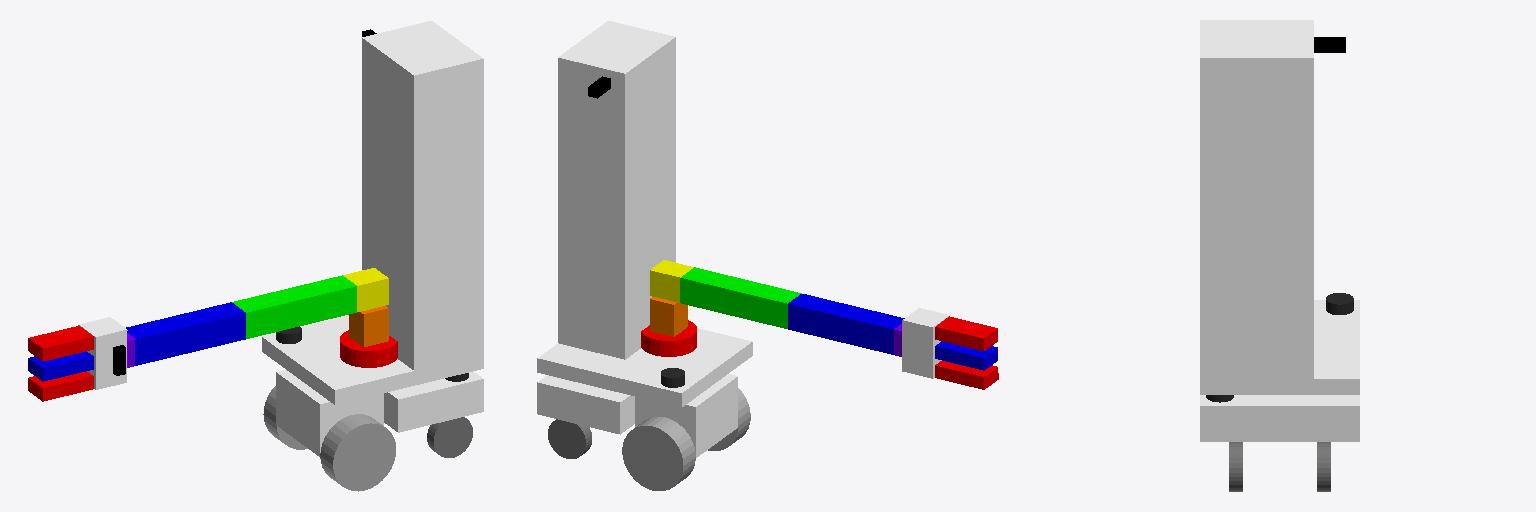
--- Facts derived from the render (not from the file) ---
3 views of the same robot in one strip: view 1: azimuth 30°, elevation 25°; view 2: azimuth 150°, elevation 25°; view 3: azimuth 270°, elevation 25° (orthographic).
Model mbse with 25 links and 24 joints (7 revolute, 4 continuous, 3 prismatic, 10 fixed), rooted at mobilebaseI, posed all joints at 0.
Links seen in each view (by area): view 1: Torsol, mobilebaseIV, Revlink3, Revlink4, Wheel_Left, mobilebaseI, mobilebaseII, Hand, FingerLeft, CasterWheel_Left, LinearJoint, Revlink1 (+4 smaller); view 2: Torsol, mobilebaseIV, Revlink3, Revlink4, Wheel_Right, mobilebaseII, mobilebaseI, Hand, FingerLeft, CasterWheel_Right, LinearJoint, Revlink1 (+4 smaller); view 3: Torsol, mobilebaseII, mobilebaseIV, CasterWheel_Left, CasterWheel_Right, Lidar_Front.
Link boxes in pixels (bbox=[...]): Torsol: bbox=[362, 21, 483, 370]; mobilebaseIV: bbox=[262, 315, 483, 404]; Revlink3: bbox=[232, 275, 356, 338]; Revlink4: bbox=[126, 302, 245, 365]; Wheel_Left: bbox=[320, 414, 395, 491]; mobilebaseI: bbox=[276, 370, 383, 456]; mobilebaseII: bbox=[384, 371, 483, 432]; Hand: bbox=[78, 317, 127, 389]; FingerLeft: bbox=[28, 326, 93, 361]; CasterWheel_Left: bbox=[427, 417, 472, 457]; LinearJoint: bbox=[340, 330, 397, 367]; Revlink1: bbox=[349, 306, 388, 346]; Torsol: bbox=[558, 21, 675, 359]; mobilebaseIV: bbox=[537, 328, 752, 407]; Revlink3: bbox=[680, 267, 801, 328]; Revlink4: bbox=[788, 294, 904, 354]; Wheel_Right: bbox=[622, 417, 695, 490]; mobilebaseII: bbox=[537, 375, 634, 434]; mobilebaseI: bbox=[635, 374, 737, 457]; Hand: bbox=[902, 308, 949, 378]; FingerLeft: bbox=[935, 316, 997, 350]; CasterWheel_Right: bbox=[548, 419, 591, 458]; LinearJoint: bbox=[641, 320, 696, 356]; Revlink1: bbox=[650, 297, 687, 336]; Torsol: bbox=[1200, 20, 1313, 378]; mobilebaseII: bbox=[1200, 395, 1359, 441]; mobilebaseIV: bbox=[1200, 300, 1359, 394]; CasterWheel_Left: bbox=[1229, 442, 1242, 491]; CasterWheel_Right: bbox=[1317, 442, 1330, 491]; Lidar_Front: bbox=[1326, 293, 1353, 314].
Size in the robot's own frame: 1.34 by 0.4 by 1.22 metres.
Geometry: primitives only (box / cylinder / sphere), no mesh files.

robot.urdf — mbse:
<?xml version="1.0" encoding="UTF-8"?>
<!-- <?xml version="1.0"?> -->
<robot name="mbse">
    <link name="mobilebaseI">
        <visual name="mobilebaseI">
            <origin xyz="0.0 0.0 0.080" rpy="0.0 0.0 0.0" />
            <geometry name="mobilebaseI">
                <box size="0.200 0.240 0.160" />
            </geometry>
            <material name="white">
                <color rgba="1.0 1.0 1.0 1.0" />
            </material>
        </visual>
        <inertial>
            <mass value="2.0" />
            <inertia ixx="5.0" ixy="0.0" ixz="0.0" iyy="7.0" iyz="0.0" izz="6.0" />
        </inertial>
        <collision>
            <origin xyz="0.0 0.0 0.080" rpy="0.0 0.0 0.0" />
            <geometry name="mobilebaseI">
                <box size="0.200 0.240 0.160" />
            </geometry>
        </collision>
    </link>
    <link name="mobilebaseII">
        <visual name="mobilebaseII">
            <origin xyz="0.0 0.0 0.00" rpy="0.0 0.0 0.0" />
            <geometry name="mobilebaseII">
                <box size="0.270 0.400 0.100" />
            </geometry>
            <material name="white" />
        </visual>
        <inertial>
            <mass value="18.0" />
            <inertia ixx="8.0" ixy="0.0" ixz="0.0" iyy="2.0" iyz="0.0" izz="1.0" />
        </inertial>
        <collision>
            <origin xyz="0.0 0.0 0.00" rpy="0.0 0.0 0.0" />
            <geometry name="mobilebaseII">
                <box size="0.270 0.400 0.100" />
            </geometry>
        </collision>
    </link>
    <joint name="MobileBaseWheel" type="fixed">
        <origin xyz="0.235 0.0 0.110" rpy="0.0 0.0 0.0" />
        <parent link="mobilebaseI" />
        <child link="mobilebaseII" />
    </joint>
    <link name="Wheel_Right">
        <inertial>
            <mass value="1.5" />
            <inertia ixx="8.0" ixy="0.0" ixz="0.0" iyy="4.0" iyz="0.0" izz="4.0" />
        </inertial>
        <visual name="Wheel">
            <origin xyz="0.0 0.0 0.0" rpy="0.0 0.0 0.0" />
            <geometry name="wheel">
                <cylinder radius="0.100" length="0.070" />
            </geometry>
            <material name="Gray1">
                <color rgba="0.7 0.7 0.7 1.0" />
            </material>
        </visual>
        <collision>
            <origin xyz="0.0 0.0 0.0" rpy="0.0 0.0 0.0" />
            <geometry name="wheel">
                <cylinder radius="0.100" length="0.070" />
            </geometry>
        </collision>
    </link>
    <joint name="WheelR" type="continuous">
        <origin xyz="0.0 0.155 0.005" rpy="1.57 0.0 0.0" />
        <parent link="mobilebaseI" />
        <child link="Wheel_Right" />
        <axis xyz="0.0 0.0 1.0" />
        <limit effort="1000.0" velocity="10.0" />
    </joint>
    <link name="Wheel_Left">
        <inertial>
            <mass value="1.5" />
            <inertia ixx="8.0" ixy="0.0" ixz="0.0" iyy="4.0" iyz="0.0" izz="4.0" />
        </inertial>
        <visual name="Wheel">
            <origin xyz="0.0 0.0 0.0" rpy="0.0 0.0 0.0" />
            <geometry name="wheel">
                <cylinder radius="0.100" length="0.070" />
            </geometry>
            <material name="Gray1">
                <color rgba="0.7 0.7 0.7 1.0" />
            </material>
        </visual>
        <collision>
            <origin xyz="0.0 0.0 0.0" rpy="0.0 0.0 0.0" />
            <geometry name="wheel">
                <cylinder radius="0.100" length="0.070" />
            </geometry>
        </collision>
    </link>
    <joint name="WheelL" type="continuous">
        <origin xyz="0.0 -0.155 0.005" rpy="1.57 0.0 0.0" />
        <parent link="mobilebaseI" />
        <child link="Wheel_Left" />
        <axis xyz="0.0 0.0 1.0" />
        <limit effort="1000.0" velocity="10.0" />
    </joint>
    <link name="CasterCase_Left">
        <inertial>
            <mass value="0.06" />
            <inertia ixx="0.2" ixy="0.0" ixz="0.0" iyy="0.6" iyz="-0.7" izz="0.2" />
        </inertial>
        <visual name="CasterCase">
            <origin xyz="0.0 0.0 -0.005" rpy="0.0 0.0 0.0" />
            <geometry name="CasterC">
                <cylinder radius="0.025" length="0.010" />
            </geometry>
            <material name="Gray1">
                <color rgba="0.7 0.7 0.7 1.0" />
            </material>
        </visual>
        <collision>
            <origin xyz="0.0 0.0 -0.005" rpy="0.0 0.0 0.0" />
            <geometry name="CasterC">
                <cylinder radius="0.025" length="0.010" />
            </geometry>
        </collision>
    </link>
    <joint name="CasterCL" type="fixed">
        <origin xyz="0.040 -0.110 -0.05" rpy="0.0 0.0 0.0" />
        <parent link="mobilebaseII" />
        <child link="CasterCase_Left" />
        <axis xyz="0.0 0.0 1.0" />
    </joint>
    <link name="CasterWheel_Left">
        <inertial>
            <mass value="0.3" />
            <inertia ixx="0.6" ixy="0.0" ixz="0.0" iyy="0.3" iyz="0.0" izz="0.3" />
        </inertial>
        <visual name="CasterWheel">
            <origin xyz="0.0 0.0 0.0" rpy="0.0 0.0 0.0" />
            <geometry name="Casterwheel">
                <cylinder radius="0.0625" length="0.036" />
            </geometry>
            <material name="Gray2">
                <color rgba="0.5 0.5 0.5 1.0" />
            </material>
        </visual>
        <collision>
            <origin xyz="0.0 0.0 0.0" rpy="0.0 0.0 0.0" />
            <geometry name="Casterwheel">
                <cylinder radius="0.0625" length="0.036" />
            </geometry>
        </collision>
    </link>
    <joint name="CasterWheelL" type="continuous">
        <origin xyz="0.0405 0.0 -0.0925" rpy="1.57 0.0 0.0" />
        <parent link="CasterCase_Left" />
        <child link="CasterWheel_Left" />
        <axis xyz="0.0 0.0 1.0" />
    </joint>
    <link name="CasterCase_Right">
        <inertial>
            <mass value="0.06" />
            <inertia ixx="0.2" ixy="0.0" ixz="0.0" iyy="0.6" iyz="-0.7" izz="0.2" />
        </inertial>
        <visual name="CasterCase">
            <origin xyz="0.0 0.0 -0.005" rpy="0.0 0.0 0.0" />
            <geometry name="CasterC">
                <cylinder radius="0.025" length="0.010" />
            </geometry>
            <material name="Gray1">
                <color rgba="0.7 0.7 0.7 1.0" />
            </material>
        </visual>
        <collision>
            <origin xyz="0.0 0.0 -0.005" rpy="0.0 0.0 0.0" />
            <geometry name="CasterC">
                <cylinder radius="0.025" length="0.010" />
            </geometry>
        </collision>
    </link>
    <joint name="CasterCR" type="fixed">
        <origin xyz="0.040 0.110 -0.05" rpy="0.0 0.0 0.0" />
        <parent link="mobilebaseII" />
        <child link="CasterCase_Right" />
        <axis xyz="1.0 0.0 0.0" />
    </joint>
    <link name="CasterWheel_Right">
        <inertial>
            <mass value="0.3" />
            <inertia ixx="0.6" ixy="0.0" ixz="0.0" iyy="0.3" iyz="0.0" izz="0.3" />
        </inertial>
        <visual name="CasterWheel">
            <origin xyz="0.0 0.0 0.0" rpy="0.0 0.0 0.0" />
            <geometry name="Casterwheel">
                <cylinder radius="0.0625" length="0.036" />
            </geometry>
            <material name="Gray2">
                <color rgba="0.5 0.5 0.5 1.0" />
            </material>
        </visual>
        <collision>
            <origin xyz="0.0 0.0 0.0" rpy="0.0 0.0 0.0" />
            <geometry name="Casterwheel">
                <cylinder radius="0.0625" length="0.036" />
            </geometry>
        </collision>
    </link>
    <joint name="CasterWheelR" type="continuous">
        <origin xyz="0.0405 0.0 -0.0925" rpy="1.57 0.0 0.0" />
        <parent link="CasterCase_Right" />
        <child link="CasterWheel_Right" />
        <axis xyz="0.0 0.0 1.0" />
    </joint>
    <link name="mobilebaseIII">
        <inertial>
            <mass value="10.0" />
            <inertia ixx="0.6" ixy="0.0" ixz="0.0" iyy="0.1" iyz="0.0" izz="0.4" />
        </inertial>
        <visual name="mobilebaseIII">
            <origin xyz="0.0 0.0 0.0" rpy="0.0 0.0 0.0" />
            <geometry name="mobilebaseIII">
                <box size="0.235 0.180 0.030" />
            </geometry>
            <material name="white" />
        </visual>
        <collision>
            <origin xyz="0.0 0.0 0.0" rpy="0.0 0.0 0.0" />
            <geometry name="mobilebaseIII">
                <box size="0.235 0.180 0.030" />
            </geometry>
        </collision>
    </link>
    <joint name="MobileBaseLidar" type="fixed">
        <origin xyz="-0.100 0.0 0.065" rpy="0.0 0.0 0.0" />
        <parent link="mobilebaseII" />
        <child link="mobilebaseIII" />
        <axis xyz="0.0 0.0 1.0" />
    </joint>
    <link name="mobilebaseIV">
        <inertial>
            <mass value="1.0" />
            <inertia ixx="0.2" ixy="0.0" ixz="0.0" iyy="0.3" iyz="0.0" izz="0.1" />
        </inertial>
        <visual name="mobilebaseIII">
            <origin xyz="0.0 0.0 0.0" rpy="0.0 0.0 0.0" />
            <geometry name="mobilebaseIV">
                <box size="0.470 0.400 0.045" />
            </geometry>
            <material name="white" />
        </visual>
        <collision>
            <origin xyz="0.0 0.0 0.0" rpy="0.0 0.0 0.0" />
            <geometry name="mobilebaseIV">
                <box size="0.470 0.400 0.045" />
            </geometry>
        </collision>
    </link>
    <joint name="MobileBaseTorsol" type="fixed">
        <origin xyz="0.0 0.0 0.0375" rpy="0.0 0.0 0.0" />
        <parent link="mobilebaseIII" />
        <child link="mobilebaseIV" />
    </joint>
    <link name="Lidar_Front">
        <inertial>
            <mass value="0.3" />
            <inertia ixx="0.4" ixy="0.0" ixz="0.0" iyy="0.7" iyz="0.0" izz="0.4" />
        </inertial>
        <visual name="Lidar_Front">
            <origin xyz="0.0 0.0 0.0" rpy="0.0 0.0 0.0" />
            <geometry name="Lidar_front">
                <cylinder radius="0.035" length="0.030" />
            </geometry>
            <material name="Gray4">
                <color rgba="0.2 0.2 0.2 1.0" />
            </material>
        </visual>
        <collision>
            <origin xyz="0.0 0.0 0.0" rpy="0.0 0.0 0.0" />
            <geometry name="Lidar_front">
                <cylinder radius="0.035" length="0.030" />
            </geometry>
        </collision>
    </link>
    <joint name="LidarF" type="fixed">
        <origin xyz="-0.178 0.150 0.075" rpy="0.0 0.0 3.15159" />
        <parent link="mobilebaseIII" />
        <child link="Lidar_Front" />
        <axis xyz="1.0 0.0 0.0" />
    </joint>
    <link name="Lidar_Back">
        <inertial>
            <mass value="0.3" />
            <inertia ixx="0.4" ixy="0.0" ixz="0.0" iyy="0.7" iyz="0.0" izz="0.4" />
        </inertial>
        <visual name="Lidar_Back">
            <origin xyz="0.0 0.0 0.0" rpy="0.0 0.0 0.0" />
            <geometry name="Lidar_back">
                <cylinder radius="0.035" length="0.030" />
            </geometry>
            <material name="Gray4">
                <color rgba="0.2 0.2 0.2 1.0" />
            </material>
        </visual>
        <collision>
            <origin xyz="0.0 0.0 0.0" rpy="0.0 0.0 0.0" />
            <geometry name="Lidar_back">
                <cylinder radius="0.035" length="0.030" />
            </geometry>
        </collision>
    </link>
    <joint name="LidarB" type="fixed">
        <origin xyz="0.178 -0.150 0.0" rpy="0.0 0.0 0.0" />
        <parent link="mobilebaseIII" />
        <child link="Lidar_Back" />
    </joint>
    <link name="Torsol">
        <inertial>
            <mass value="0.8" />
            <inertia ixx="7.0" ixy="5.0" ixz="8.0" iyy="4.0" iyz="4.0" izz="7.0" />
        </inertial>
        <visual name="Body">
            <origin xyz="0.0 0.0 0.445" rpy="0.0 0.0 0.0" />
            <geometry name="body">
                <box size="0.220 0.285 0.890" />
            </geometry>
            <material name="white" />
        </visual>
        <collision>
            <origin xyz="0.0 0.0 0.445" rpy="0.0 0.0 0.0" />
            <geometry name="body">
                <box size="0.220 0.285 0.890" />
            </geometry>
        </collision>
    </link>
    <joint name="BaseTorsol" type="fixed">
        <origin xyz="0.125 -0.0575 0.0225" rpy="0.0 0.0 0.0" />
        <parent link="mobilebaseIV" />
        <child link="Torsol" />
    </joint>
    <link name="TorsolCamera">
        <inertial>
            <origin xyz="0.0 1.0 0.0" rpy="0.0 0.0 0.0" />
            <mass value="0.2" />
            <inertia ixx="0.6" ixy="0.0" ixz="0.0" iyy="0.1" iyz="0.0" izz="0.1" />
        </inertial>
        <visual>
            <origin xyz="0.0 0.0 0.0" rpy="0.0 0.0 0.0" />
            <geometry name="Camera">
                <box size="0.03 0.08 0.03" />
            </geometry>
            <material name="black">
                <color rgba="0.0 0.0 0.0 0.5" />
            </material>
        </visual>
        <collision>
            <origin xyz="0.0 0.0 0.0" rpy="0.0 0.0 0.0" />
            <geometry name="Camera">
                <box size="0.03 0.08 0.03" />
            </geometry>
        </collision>
    </link>
    <joint name="BodyCam" type="revolute">
        <origin xyz="-0.05 0.182 0.85" rpy="0.0 0.0 3.15159" />
        <parent link="Torsol" />
        <child link="TorsolCamera" />
        <axis xyz="0.0 1.0 0.0" />
        <limit effort="1000.0" lower="-1.5" upper="1.5" velocity="0.5" />
    </joint>
    <link name="LinearJoint">
        <inertial>
            <mass value="0.5" />
            <inertia ixx="7.0" ixy="-5.0" ixz="8.0" iyy="4.0" iyz="4.0" izz="7.0" />
        </inertial>
        <visual>
            <origin xyz="0.0 0.0 0.0" rpy="0.0 0.0 0.0" />
            <geometry name="LinearJ">
                <cylinder radius="0.080" length="0.050" />
            </geometry>
            <material name="Red">
                <color rgba="1.0 0.0 0.0 1.0" />
            </material>
        </visual>
        <collision>
            <origin xyz="0.0 0.0 0.0" rpy="0.0 0.0 0.0" />
            <geometry name="LinearJ">
                <cylinder radius="0.080" length="0.050" />
            </geometry>
        </collision>
    </link>
    <joint name="LinJ" type="prismatic">
        <origin xyz="-0.17 0.0 0.0275" rpy="0.0 0.0 0.0" />
        <parent link="Torsol" />
        <child link="LinearJoint" />
        <axis xyz="0.0 0.0 1.0" />
        <limit lower="0.0" upper="0.650" effort="1000.0" velocity="10.0" />
    </joint>
    <link name="Revlink1">
        <inertial>
            <mass value="0.1" />
            <inertia ixx="0.4" ixy="0.0" ixz="0.0" iyy="0.4" iyz="0.7" izz="0.1" />
        </inertial>
        <visual>
            <origin xyz="0.0 0.0 -0.050" rpy="0.0 0.0 0.0" />
            <geometry name="RevL1">
                <box size="0.080 0.080 0.100" />
            </geometry>
            <material name="Orange">
                <color rgba="1.0 0.5 0.0 1.0" />
            </material>
        </visual>
        <collision>
            <origin xyz="0.0 0.0 -0.050" rpy="0.0 0.0 0.0" />
            <geometry name="RevL1">
                <box size="0.080 0.080 0.100" />
            </geometry>
        </collision>
    </link>
    <joint name="RevJ1" type="revolute">
        <origin xyz="0.0 0.0 0.125" rpy="0.0 0.0 3.14" />
        <parent link="LinearJoint" />
        <child link="Revlink1" />
        <axis xyz="0.0 0.0 1.0" />
        <limit effort="1000.0" lower="-1.3" upper="1.3" velocity="0.5" />
    </joint>
    <link name="Revlink2">
        <inertial>
            <mass value="0.1" />
            <inertia ixx="0.9" ixy="0.0" ixz="0.0" iyy="0.4" iyz="0.0" izz="0.9" />
        </inertial>
        <visual>
            <origin xyz="0.0 0.0 -0.050" rpy="0.0 0.0 0.0" />
            <geometry name="RevL2">
                <box size="0.080 0.080 0.100" />
            </geometry>
            <material name="Yellow">
                <color rgba="1.0 1.0 0.0 1.0" />
            </material>
        </visual>
        <collision>
            <origin xyz="0.0 0.0 -0.050" rpy="0.0 0.0 0.0" />
            <geometry name="RevL2">
                <box size="0.080 0.080 0.100" />
            </geometry>
        </collision>
    </link>
    <joint name="RevJ2" type="revolute">
        <origin xyz="0.06 0.0 0.05" rpy="0.0 1.57 0.0" />
        <parent link="Revlink1" />
        <child link="Revlink2" />
        <axis xyz="0.0 0.0 1.0" />
        <limit effort="1000.0" lower="-1.5" upper="1.5" velocity="0.5" />
    </joint>
    <link name="Revlink3">
        <inertial>
            <mass value="0.1" />
            <inertia ixx="0.9" ixy="0.0" ixz="0.0" iyy="0.1" iyz="0.5" izz="0.8" />
        </inertial>
        <visual>
            <origin xyz="-0.175 0.0 0.0" rpy="0.0 1.57 0.0" />
            <geometry name="RevL3">
                <box size="0.080 0.080 0.350" />
            </geometry>
            <material name="Green">
                <color rgba="0.0 1.0 0.0 1.0" />
            </material>
        </visual>
        <collision>
            <origin xyz="-0.175 0.0 0.0" rpy="0.0 1.57 0.0" />
            <geometry name="RevL3">
                <box size="0.080 0.080 0.350" />
            </geometry>
        </collision>
    </link>
    <joint name="RevJ3" type="revolute">
        <origin xyz="0.0 0.0 0.0" rpy="1.57 1.57 0.0" />
        <parent link="Revlink2" />
        <child link="Revlink3" />
        <axis xyz="0.0 0.0 1.0" />
        <limit effort="1000.0" lower="-1.2" upper="2.0" velocity="0.5" />
    </joint>
    <link name="Revlink4">
        <inertial>
            <mass value="0.1" />
            <inertia ixx="0.9" ixy="0.0" ixz="0.0" iyy="0.1" iyz="0.5" izz="0.8" />
        </inertial>
        <visual>
            <origin xyz="-0.175 0.0 0.0" rpy="0.0 1.57 0.0" />
            <geometry name="RevL4">
                <box size="0.080 0.080 0.350" />
            </geometry>
            <material name="Blue">
                <color rgba="0.0 0.0 1.0 1.0" />
            </material>
        </visual>
        <collision>
            <origin xyz="-0.175 0.0 0.0" rpy="0.0 1.57 0.0" />
            <geometry name="RevL4">
                <box size="0.080 0.080 0.350" />
            </geometry>
        </collision>
    </link>
    <joint name="RevJ4" type="revolute">
        <origin xyz="-0.350 0.0 0.0" rpy="0.0 0.0 0.0" />
        <parent link="Revlink3" />
        <child link="Revlink4" />
        <axis xyz="0.0 0.0 1.0" />
        <limit effort="1000.0" lower="-1.9" upper="1.9" velocity="0.5" />
    </joint>
    <link name="Revlink5">
        <inertial>
            <mass value="0.1" />
            <inertia ixx="0.1" ixy="0.0" ixz="0.0" iyy="0.1" iyz="0.0" izz="0.1" />
        </inertial>
        <visual>
            <origin xyz="-0.04 0.0 0.0" rpy="0.0 1.57 0.0" />
            <geometry name="RevL5">
                <box size="0.080 0.080 0.050" />
            </geometry>
            <material name="Purple">
                <color rgba="0.5 0.0 1.0 1.0" />
            </material>
        </visual>
        <collision>
            <origin xyz="-0.04 0.0 0.0" rpy="0.0 1.57 0.0" />
            <geometry name="RevL5">
                <box size="0.080 0.080 0.050" />
            </geometry>
        </collision>
    </link>
    <joint name="RevJ5" type="revolute">
        <origin xyz="-0.331 0.0 -0.0" rpy="0.0 0.0 0.0" />
        <parent link="Revlink4" />
        <child link="Revlink5" />
        <axis xyz="0.0 0.0 1.0" />
        <limit effort="1000.0" lower="-3.14" upper="3.14" velocity="0.5" />
    </joint>
    <link name="Hand">
        <inertial>
            <mass value="0.05" />
            <inertia ixx="0.4" ixy="0.0" ixz="0.0" iyy="0.4" iyz="0.0" izz="0.4" />
        </inertial>
        <visual>
            <origin xyz="-0.0 0.0 0.0475" rpy="0.0 1.57 0.0" />
            <geometry name="Hand">
                <box size="0.100 0.160 0.095" />
            </geometry>
            <material name="white" />
        </visual>
        <collision>
            <origin xyz="-0.0 0.0 0.0475" rpy="0.0 1.57 0.0" />
            <geometry name="Hand">
                <box size="0.100 0.160 0.095" />
            </geometry>
        </collision>
    </link>
    <joint name="HandGripper" type="revolute">
        <origin xyz="-0.05 -0.0 -0.0" rpy="0.0 -1.57 0.0" />
        <parent link="Revlink5" />
        <child link="Hand" />
        <axis xyz="0.0 0.0 1.0" />
        <limit effort="1000.0" lower="-3.14" upper="3.14" velocity="0.5" />
    </joint>
    <link name="FingerLeft">
        <inertial>
            <mass value="0.05" />
            <inertia ixx="0.5" ixy="0.0" ixz="0.0" iyy="0.4" iyz="0.0" izz="0.5" />
        </inertial>
        <visual>
            <origin xyz="-0.080 0.0 0.0" rpy="0.0 0.0 0.0" />
            <geometry name="FingerL">
                <box size="0.160 0.040 0.080" />
            </geometry>
            <material name="Red" />
        </visual>
        <collision>
            <origin xyz="-0.080 0.0 0.0" rpy="0.0 0.0 0.0" />
            <geometry name="FingerL">
                <box size="0.160 0.040 0.080" />
            </geometry>
        </collision>
    </link>
    <joint name="FingerL" type="prismatic">
        <origin xyz="-0.0 -0.06 0.1" rpy="0.0 1.57 0.0" />
        <parent link="Hand" />
        <child link="FingerLeft" />
        <axis xyz="0.0 1.0 0.0" />
        <limit effort="1000.0" lower="-0.025" upper="0.04" velocity="0.5" />
    </joint>
    <link name="FingerRight">
        <inertial>
            <mass value="0.05" />
            <inertia ixx="0.5" ixy="0.0" ixz="0.0" iyy="0.4" iyz="0.0" izz="0.5" />
        </inertial>
        <visual>
            <origin xyz="-0.080 0.0 0.0" rpy="0.0 0.0 0.0" />
            <geometry name="FingerR">
                <box size="0.160 0.040 0.080" />
            </geometry>
            <material name="Red" />
        </visual>
        <collision>
            <origin xyz="-0.080 0.0 0.0" rpy="0.0 0.0 0.0" />
            <geometry name="FingerR">
                <box size="0.160 0.040 0.080" />
            </geometry>
        </collision>
    </link>
    <joint name="FingerR" type="prismatic">
        <origin xyz="-0.0 0.06 0.1" rpy="0.0 1.57 0.0" />
        <parent link="Hand" />
        <child link="FingerRight" />
        <axis xyz="0.0 1.0 0.0" />
        <limit effort="1000.0" lower="-0.04" upper="0.025" velocity="0.5" />
    </joint>
    <link name="FingerMiddle">
        <visual>
            <origin xyz="-0.080 0.0 0.0" rpy="0.0 0.0 0.0" />
            <geometry name="FingerR">
                <box size="0.160 0.040 0.080" />
            </geometry>
            <material name="Blue" />
        </visual>
    </link>
    <joint name="FingerM" type="fixed">
        <origin xyz="-0.0 0.00 0.1" rpy="0.0 1.57 0.0" />
        <parent link="Hand" />
        <child link="FingerMiddle" />
        <axis xyz="0.0 1.0 0.0" />
        <limit effort="1000.0" lower="-0.1" upper="0.02" velocity="0.5" />
    </joint>
    <link name="HandCamera">
        <inertial>
            <mass value="0.2" />
            <inertia ixx="0.6" ixy="0.0" ixz="0.0" iyy="0.1" iyz="0.0" izz="0.1" />
        </inertial>
        <visual name="Camera">
            <origin xyz="0.0 0.0 0.0" rpy="0.0 0.0 0.0" />
            <geometry name="Camera">
                <box size="0.02 0.08 0.03" />
            </geometry>
            <material name="black">
                <color rgba="0.0 0.0 0.0 0.5" />
            </material>
        </visual>
        <collision>
            <origin xyz="0.0 0.0 0.0" rpy="0.0 0.0 0.0" />
            <geometry name="Camera">
                <box size="0.02 0.08 0.03" />
            </geometry>
        </collision>
    </link>
    <joint name="HandCam" type="fixed">
        <origin xyz="-0.0625 0.0 0.03" rpy="0.0 0.0 0.0" />
        <parent link="Hand" />
        <child link="HandCamera" />
    </joint>
    <transmission name="trans_BodyCam">
        <type>transmission_interface/SimpleTransmission</type>
        <joint name="BodyCam">
            <hardwareInterface>hardware_interface/PositionJointInterface</hardwareInterface>
        </joint>
        <actuator name="BodyCam_motor">
            <hardwareInterface>hardware_interface/PositionJointInterface</hardwareInterface>
            <mechanicalReduction>1</mechanicalReduction>
        </actuator>
    </transmission>
    <transmission name="trans_LinJ">
        <type>transmission_interface/SimpleTransmission</type>
        <joint name="LinJ">
            <hardwareInterface>hardware_interface/PositionJointInterface</hardwareInterface>
        </joint>
        <actuator name="LinJ_motor">
            <hardwareInterface>hardware_interface/PositionJointInterface</hardwareInterface>
            <mechanicalReduction>1</mechanicalReduction>
        </actuator>
    </transmission>
    <transmission name="trans_RevJ1">
        <type>transmission_interface/SimpleTransmission</type>
        <joint name="RevJ1">
            <hardwareInterface>hardware_interface/PositionJointInterface</hardwareInterface>
        </joint>
        <actuator name="RevJ1_motor">
            <hardwareInterface>hardware_interface/PositionJointInterface</hardwareInterface>
            <mechanicalReduction>1</mechanicalReduction>
        </actuator>
    </transmission>
    <transmission name="trans_RevJ2">
        <type>transmission_interface/SimpleTransmission</type>
        <joint name="RevJ2">
            <hardwareInterface>hardware_interface/PositionJointInterface</hardwareInterface>
        </joint>
        <actuator name="RevJ2_motor">
            <hardwareInterface>hardware_interface/PositionJointInterface</hardwareInterface>
            <mechanicalReduction>1</mechanicalReduction>
        </actuator>
    </transmission>
    <transmission name="trans_RevJ3">
        <type>transmission_interface/SimpleTransmission</type>
        <joint name="RevJ3">
            <hardwareInterface>hardware_interface/PositionJointInterface</hardwareInterface>
        </joint>
        <actuator name="RevJ3_motor">
            <hardwareInterface>hardware_interface/PositionJointInterface</hardwareInterface>
            <mechanicalReduction>1</mechanicalReduction>
        </actuator>
    </transmission>
    <transmission name="trans_RevJ4">
        <type>transmission_interface/SimpleTransmission</type>
        <joint name="RevJ4">
            <hardwareInterface>hardware_interface/PositionJointInterface</hardwareInterface>
        </joint>
        <actuator name="RevJ4_motor">
            <hardwareInterface>hardware_interface/PositionJointInterface</hardwareInterface>
            <mechanicalReduction>1</mechanicalReduction>
        </actuator>
    </transmission>
    <transmission name="trans_RevJ5">
        <type>transmission_interface/SimpleTransmission</type>
        <joint name="RevJ5">
            <hardwareInterface>hardware_interface/PositionJointInterface</hardwareInterface>
        </joint>
        <actuator name="RevJ5_motor">
            <hardwareInterface>hardware_interface/PositionJointInterface</hardwareInterface>
            <mechanicalReduction>1</mechanicalReduction>
        </actuator>
    </transmission>
    <transmission name="trans_HandGripper">
        <type>transmission_interface/SimpleTransmission</type>
        <joint name="HandGripper">
            <hardwareInterface>hardware_interface/PositionJointInterface</hardwareInterface>
        </joint>
        <actuator name="HandGripper_motor">
            <hardwareInterface>hardware_interface/PositionJointInterface</hardwareInterface>
            <mechanicalReduction>1</mechanicalReduction>
        </actuator>
    </transmission>
    <transmission name="trans_FingerL">
        <type>transmission_interface/SimpleTransmission</type>
        <joint name="FingerL">
            <hardwareInterface>hardware_interface/PositionJointInterface</hardwareInterface>
        </joint>
        <actuator name="FingerL_motor">
            <hardwareInterface>hardware_interface/PositionJointInterface</hardwareInterface>
            <mechanicalReduction>1</mechanicalReduction>
        </actuator>
    </transmission>
    <transmission name="trans_FingerR">
        <type>transmission_interface/SimpleTransmission</type>
        <joint name="FingerR">
            <hardwareInterface>hardware_interface/PositionJointInterface</hardwareInterface>
        </joint>
        <actuator name="FingerR_motor">
            <hardwareInterface>hardware_interface/PositionJointInterface</hardwareInterface>
            <mechanicalReduction>1</mechanicalReduction>
        </actuator>
    </transmission>
    <gazebo>
        <plugin name="gazebo_ros_control" filename="libgazebo_ros_control.so">
            <robotNamespace>/</robotNamespace>
        </plugin>
    </gazebo>
</robot>
